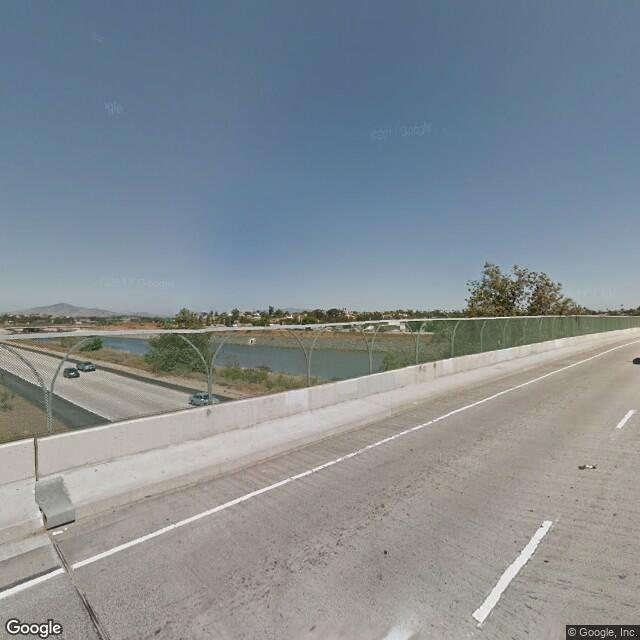litter: (48, 525, 73, 538)
